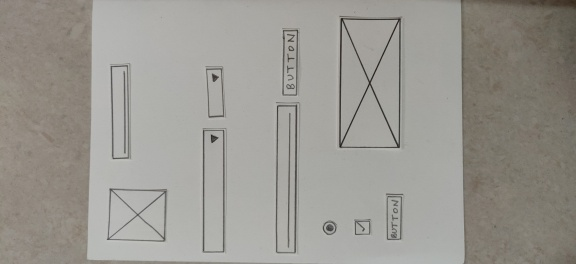button: (277, 26, 301, 98), (382, 191, 406, 243)
checkbox: (350, 216, 374, 239)
dropdown: (197, 125, 229, 256), (202, 63, 229, 121)
img: (334, 13, 404, 153), (104, 186, 170, 246)
radio: (319, 217, 339, 238)
text: (272, 102, 301, 256), (104, 60, 136, 163)
